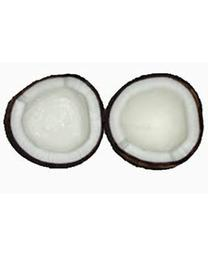coconut: (107, 72, 204, 171), (4, 74, 105, 169)
